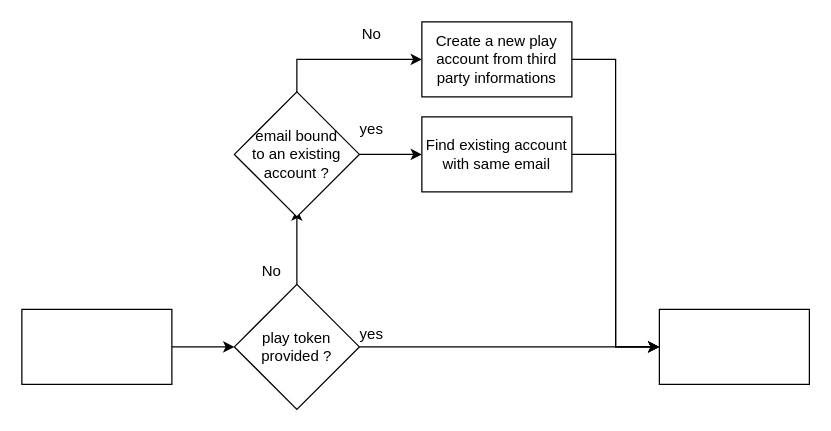
Some shapes in this 831 by 431 pixel diagram are drawn without their labels. The shapes that lost their labels are listed below. From the top down, each one's centre as x and y in pixels, then its label:
At (96,346): "Retrieve user data from API using access token".
At (733,346): "Bind third-party account to play account".
